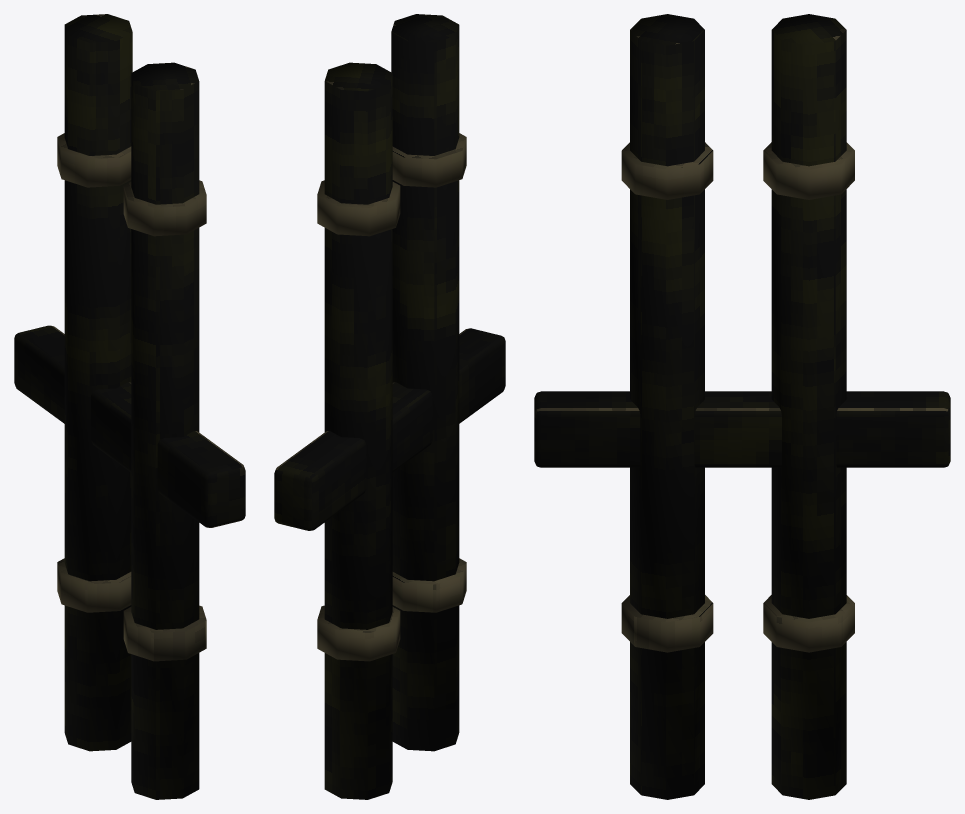
Rendered from mire_bars_side.obj.
3 renders of one model, left to right at view 1: azimuth 30°, elevation 25°; view 2: azimuth 150°, elevation 25°; view 3: azimuth 270°, elevation 25°, orthographic. The views are drawn at different scales.
Parts seen in each view (by area): view 1: part0, part1; view 2: part0, part1; view 3: part0, part1.
Part boxes in pixels (x1=…): part0: x1=14, y1=14, x2=245, y2=799; part1: x1=57, y1=133, x2=206, y2=661; part0: x1=274, y1=14, x2=505, y2=799; part1: x1=317, y1=133, x2=466, y2=661; part0: x1=534, y1=14, x2=950, y2=799; part1: x1=621, y1=142, x2=854, y2=652.
Bounding box in the file's own units: 0.11 × 1 × 0.5.
